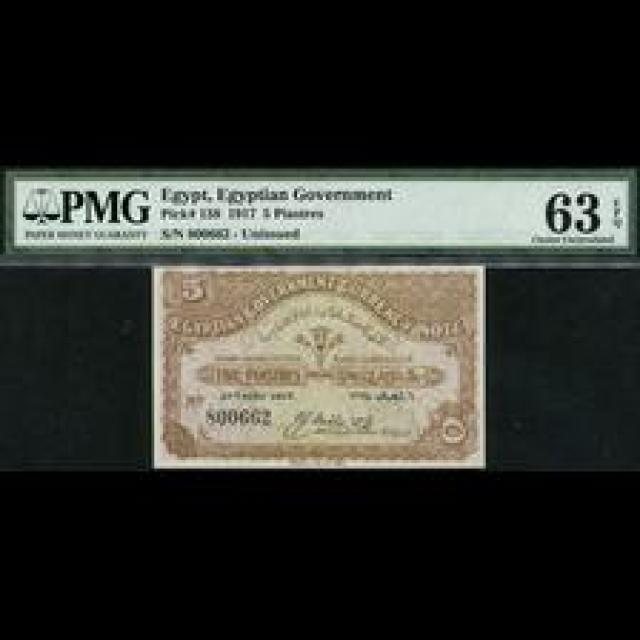banknote: (148, 263, 486, 468)
